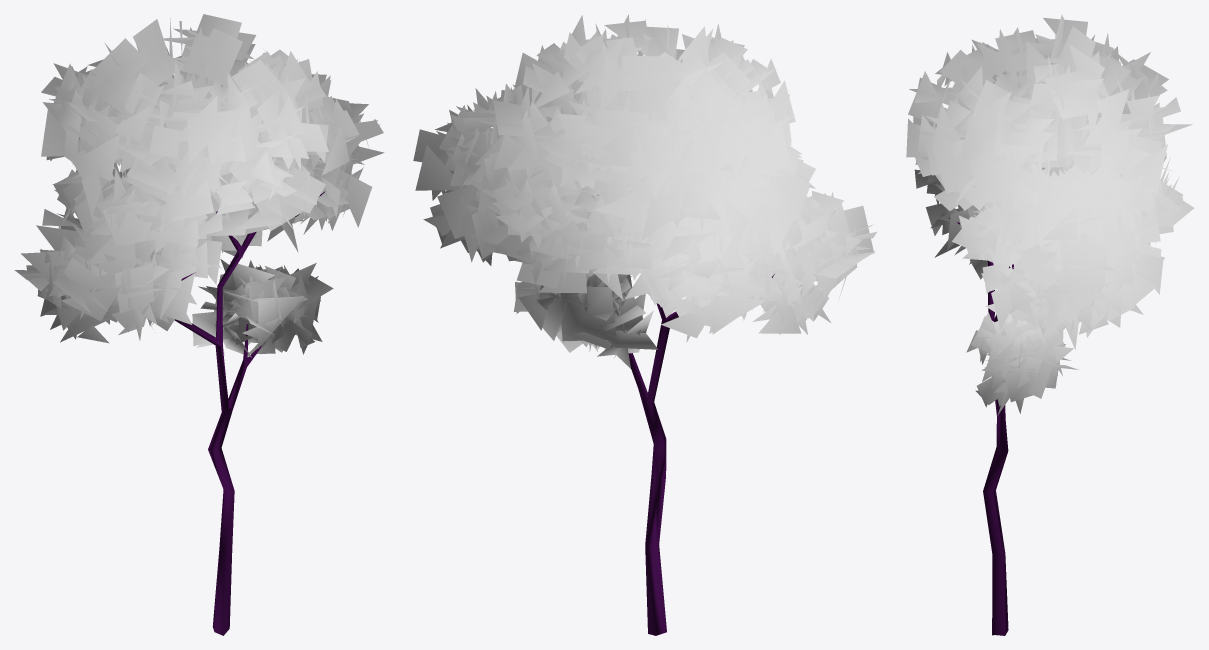
File: m_TreeHigh2_LOD0.fbx
3 renders of one model, left to right at view 1: azimuth 30°, elevation 25°; view 2: azimuth 150°, elevation 25°; view 3: azimuth 270°, elevation 25°, orthographic. The views are drawn at different scales.
Visible parts, largest first — view 1: TreeHigh2_LOD0; view 2: TreeHigh2_LOD0; view 3: TreeHigh2_LOD0.
Boxes of the visible parts, left/top/right/bottom form: TreeHigh2_LOD0: left=14, top=14, right=384, bottom=635; TreeHigh2_LOD0: left=413, top=14, right=877, bottom=635; TreeHigh2_LOD0: left=906, top=14, right=1194, bottom=635.
Size of the model in its own units: 2803 by 4061 by 1797.
